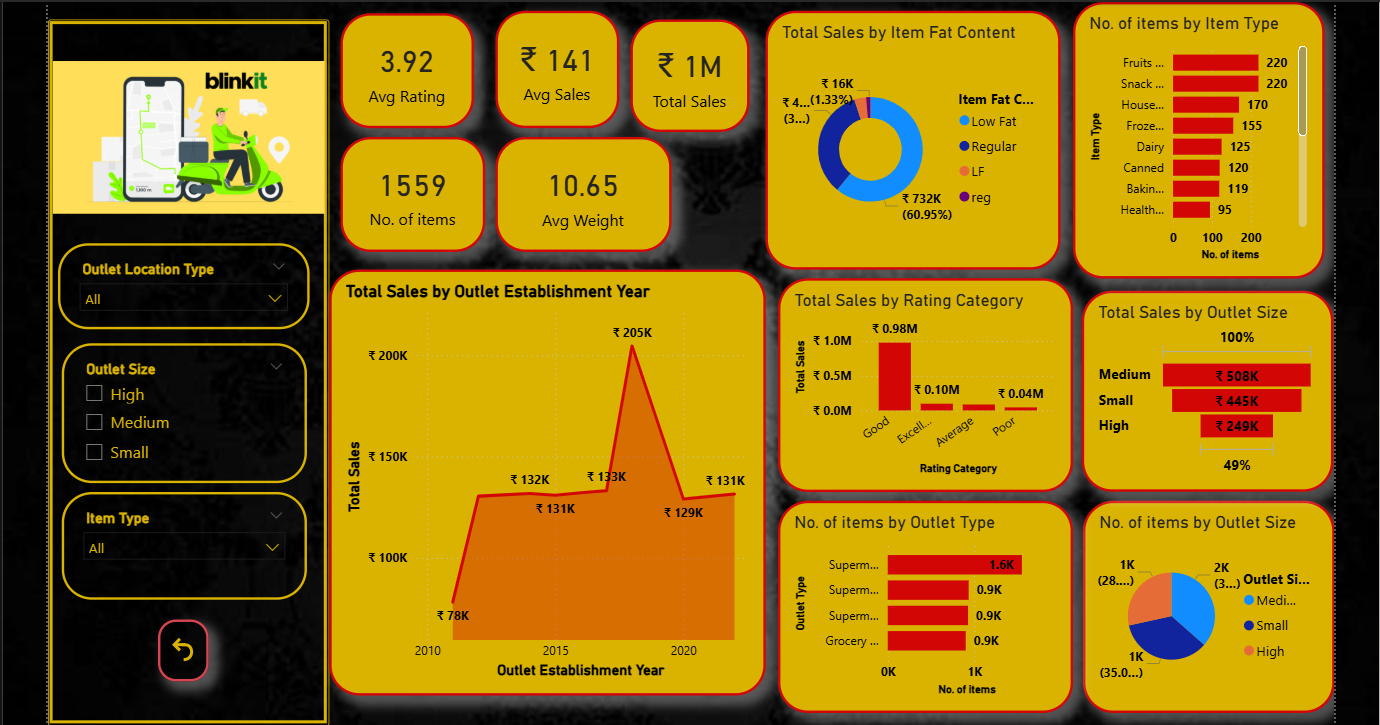

The dashboard page shown, as its layout file describes it:
{"tool":"powerbi","page":{"name":"Blink It DashBoard","canvas":[1280,720],"ordinal":0},"visuals":[{"type":"shape","box":[0,17.4,279.9,702.8],"z":0},{"type":"image","box":[0,43.5,279.9,181.6],"z":1000},{"type":"slicer","fields":{"Values":["BlinkIT Grocery Data.Outlet Location Type"]},"box":[10,240.1,250,85.8],"z":2000},{"type":"slicer","fields":{"Values":["BlinkIT Grocery Data.Outlet Size"]},"box":[13.7,339.6,243.8,139.3],"z":3000},{"type":"slicer","fields":{"Values":["BlinkIT Grocery Data.Item Type"]},"box":[13.7,487.6,243.8,107],"z":4000},{"type":"card","fields":{"Values":["Measure Table.Avg Rating"]},"box":[279.9,11.2,133.1,114.4],"z":5000},{"type":"card","fields":{"Values":["Measure Table.Avg Sales"]},"box":[424.2,8.7,123.2,116.9],"z":6000},{"type":"card","fields":{"Values":["Measure Table.No. of items"]},"box":[279.9,134.3,144.3,114.4],"z":7000},{"type":"card","fields":{"Values":["Measure Table.Total Sales"]},"box":[569.7,13.7,118.2,112],"z":8000},{"type":"donutChart","fields":{"Category":["BlinkIT Grocery Data.Item Fat Content"],"Y":["Measure Table.Total Sales"]},"box":[714,8.7,293.6,257.5],"z":9000},{"type":"pieChart","fields":{"Category":["BlinkIT Grocery Data.Outlet Size"],"Y":["Measure Table.No. of items"]},"box":[1030,496.3,250,211.5],"z":10000},{"type":"areaChart","fields":{"Category":["BlinkIT Grocery Data.Outlet Establishment Year"],"Y":["Measure Table.Total Sales"]},"box":[279.9,266.2,434.1,424.2],"z":11000},{"type":"clusteredColumnChart","fields":{"Category":["BlinkIT Grocery Data.Rating Category "],"Y":["Measure Table.Total Sales"]},"box":[726.5,274.9,293.6,212.7],"z":12000},{"type":"clusteredBarChart","fields":{"Category":["BlinkIT Grocery Data.Outlet Type"],"Y":["Measure Table.No. of items"]},"box":[726.5,496.3,293.6,211.5],"z":12001},{"type":"funnel","fields":{"Category":["BlinkIT Grocery Data.Outlet Size"],"Y":["Measure Table.Total Sales"]},"box":[1028.8,287.4,250,200.3],"z":12002},{"type":"clusteredBarChart","fields":{"Category":["BlinkIT Grocery Data.Item Type"],"Y":["Measure Table.No. of items"]},"box":[1020,0,250,274.9],"z":12003},{"type":"card","fields":{"Values":["Measure Table.Avg Weight"]},"box":[445.3,134.3,175.4,114.4],"z":12004},{"type":"actionButton","box":[109.9,615,50.1,61.2],"z":12005}]}

Visuals, with their boxes in screenshot pixels (x1, y1, x2, y2):
shape: (47,21,325,720)
image: (47,47,325,227)
slicer - BlinkIT Grocery Data.Outlet Location Type: (57,242,305,328)
slicer - BlinkIT Grocery Data.Outlet Size: (60,341,303,480)
slicer - BlinkIT Grocery Data.Item Type: (60,488,303,595)
card - Measure Table.Avg Rating: (325,15,457,128)
card - Measure Table.Avg Sales: (469,12,591,128)
card - Measure Table.No. of items: (325,137,469,251)
card - Measure Table.Total Sales: (613,17,731,129)
donutChart - BlinkIT Grocery Data.Item Fat Content x Measure Table.Total Sales: (757,12,1049,268)
pieChart - BlinkIT Grocery Data.Outlet Size x Measure Table.No. of items: (1071,497,1319,707)
areaChart - BlinkIT Grocery Data.Outlet Establishment Year x Measure Table.Total Sales: (325,268,757,690)
clusteredColumnChart - BlinkIT Grocery Data.Rating Category  x Measure Table.Total Sales: (769,277,1061,488)
clusteredBarChart - BlinkIT Grocery Data.Outlet Type x Measure Table.No. of items: (769,497,1061,707)
funnel - BlinkIT Grocery Data.Outlet Size x Measure Table.Total Sales: (1070,289,1318,489)
clusteredBarChart - BlinkIT Grocery Data.Item Type x Measure Table.No. of items: (1061,4,1309,277)
card - Measure Table.Avg Weight: (489,137,664,251)
actionButton: (156,615,206,676)
